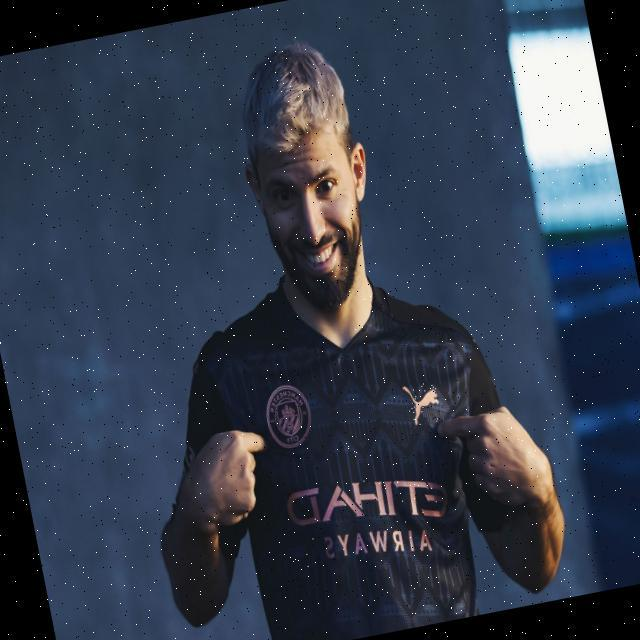Etihad Airways: (285, 463, 458, 576)
Puma: (403, 381, 442, 428)
